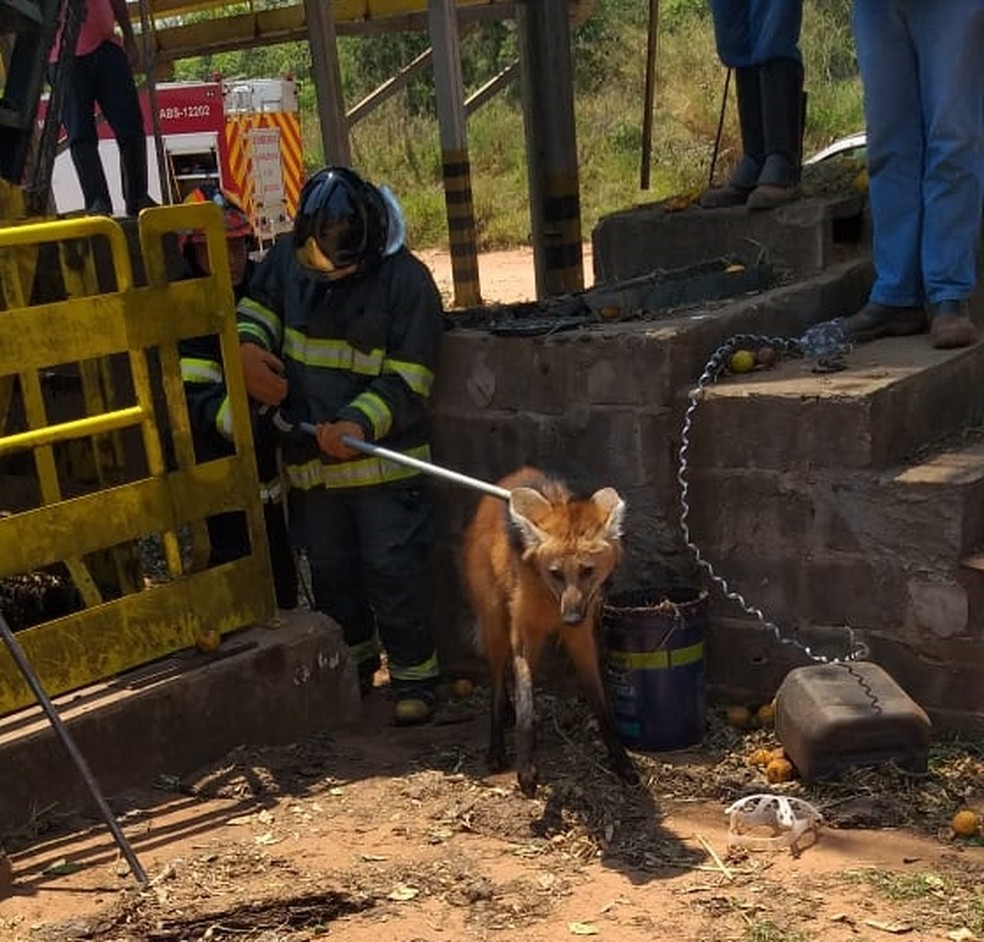LoboGuara: (450, 457, 663, 808)
